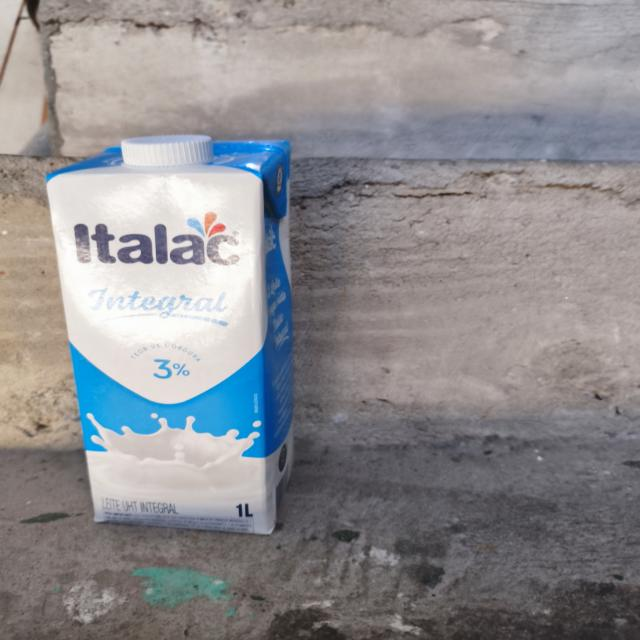Caixa de Leite: (44, 120, 310, 535)
